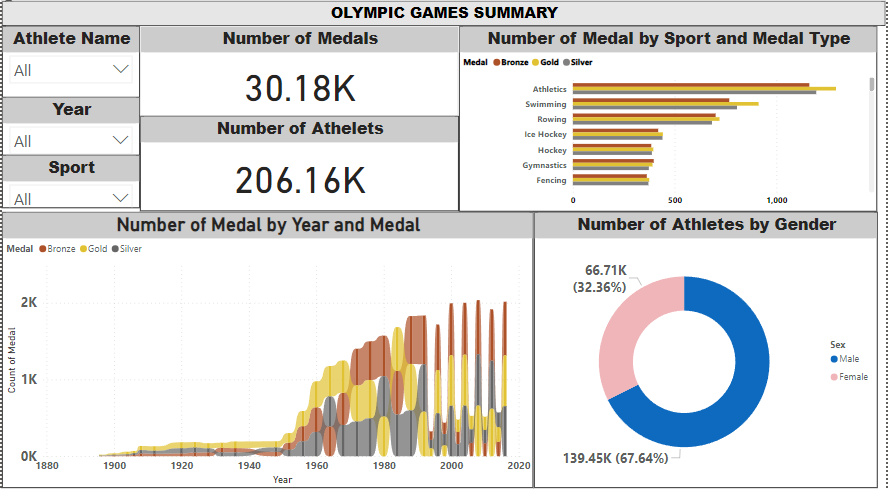

The dashboard page shown, as its layout file describes it:
{"tool":"powerbi","page":{"name":"Page 1","canvas":[1280,720],"ordinal":0},"visuals":[{"type":"ribbonChart","title":"Number of Medal by Year and Medal","fields":{"Category":["Olympics_Data.Year"],"Y":["CountNonNull(Olympics_Data.Medal)"],"Series":["Olympics_Data.Medal"]},"box":[0,306.3,795.6,411.1],"z":0},{"type":"slicer","title":"Athlete Name","fields":{"Values":["Olympics_Data.Name"]},"box":[0,41.8,200.2,103.7],"z":1000},{"type":"slicer","title":"Year","fields":{"Values":["Olympics_Data.Year"]},"box":[0,144.8,199.7,84.9],"z":2000},{"type":"slicer","title":"Sport","fields":{"Values":["Olympics_Data.Sport"]},"box":[0,229.7,199.7,76.6],"z":3000},{"type":"actionButton","box":[0,0,45.9,19.7],"z":4000},{"type":"clusteredBarChart","title":"Number of Medal by Sport and Medal Type","fields":{"Category":["Olympics_Data.Sport","Olympics_Data.Medal"],"Y":["CountNonNull(Olympics_Data.Medal)"],"Series":["Olympics_Data.Medal"]},"box":[662.4,41.8,617.8,263.5],"z":5000},{"type":"card","title":"Number of Medals","fields":{"Values":["Olympics_Data.Measure"]},"box":[200.2,41.8,462.2,131],"z":5001},{"type":"card","title":"Number of Athelets","fields":{"Values":["Country_Names.Measure 2"]},"box":[200.2,172.8,462.2,132.5],"z":5002},{"type":"donutChart","title":"Number of Athletes by Gender","fields":{"Category":["Olympics_Data.Sex"],"Y":["CountNonNull(Olympics_Data.Sex)"]},"box":[794.9,305.3,485.3,411.8],"z":5003},{"type":"slicer","title":"OLYMPIC GAMES SUMMARY","fields":{"Values":["Olympics_Data.Age"]},"box":[0,5.8,1280.2,36],"z":5004}]}

Visuals, with their boxes in screenshot pixels (x1, y1, x2, y2), scaled from the page's 1280x720 canvas onto the 888x490 screenshot:
"Number of Medal by Year and Medal" ribbonChart: region(0, 208, 552, 488)
"Athlete Name" slicer: region(0, 28, 139, 99)
"Year" slicer: region(0, 99, 139, 156)
"Sport" slicer: region(0, 156, 139, 208)
actionButton: region(0, 0, 32, 13)
"Number of Medal by Sport and Medal Type" clusteredBarChart: region(460, 28, 887, 208)
"Number of Medals" card: region(139, 28, 460, 118)
"Number of Athelets" card: region(139, 118, 460, 208)
"Number of Athletes by Gender" donutChart: region(551, 208, 887, 488)
"OLYMPIC GAMES SUMMARY" slicer: region(0, 4, 887, 28)
